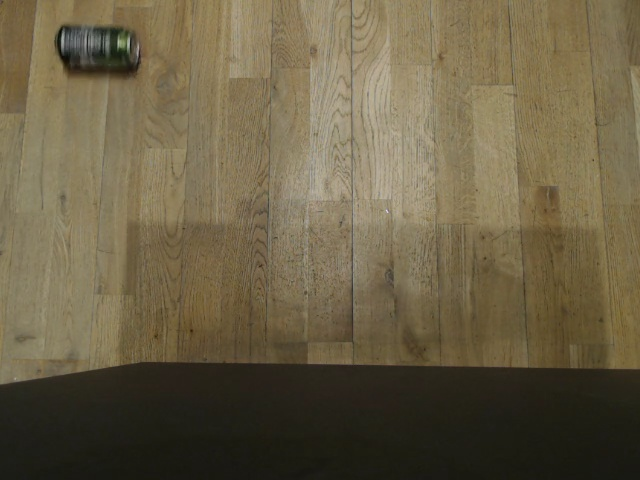beer: (46, 21, 143, 75)
